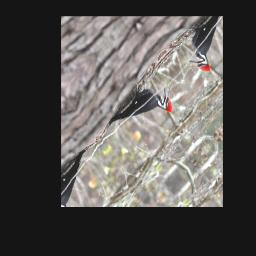Woodpecker: (102, 68, 180, 157)
